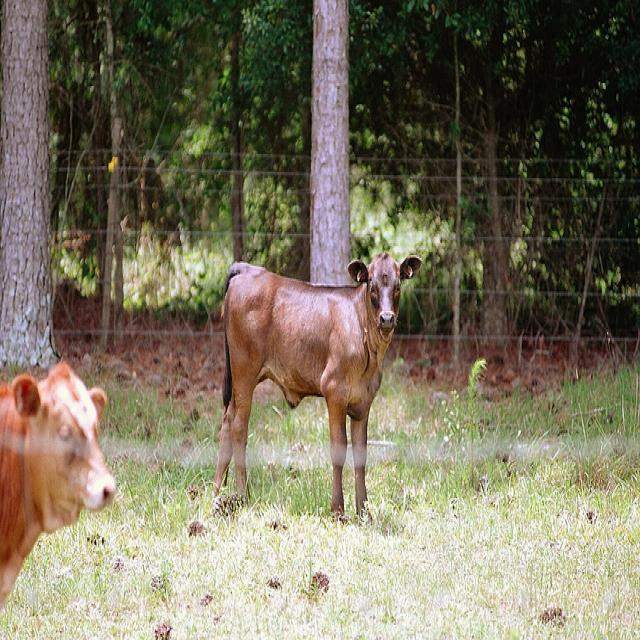cow: (216, 252, 427, 513), (0, 359, 116, 619)
